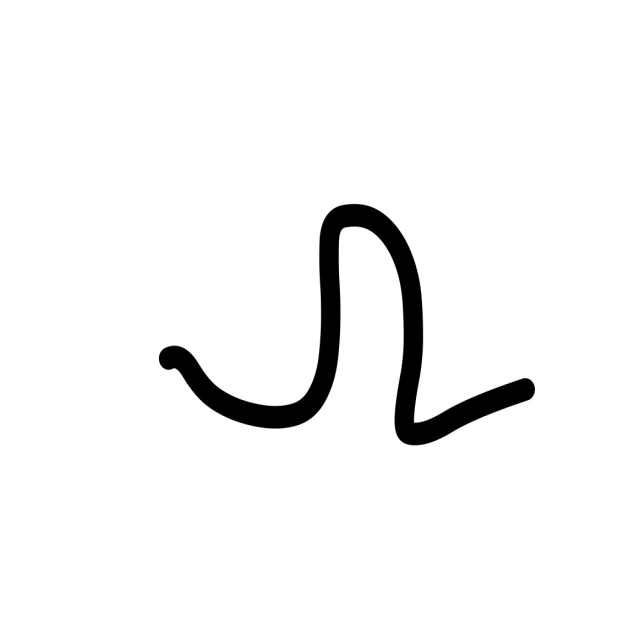ohms: (83, 81, 549, 507)
